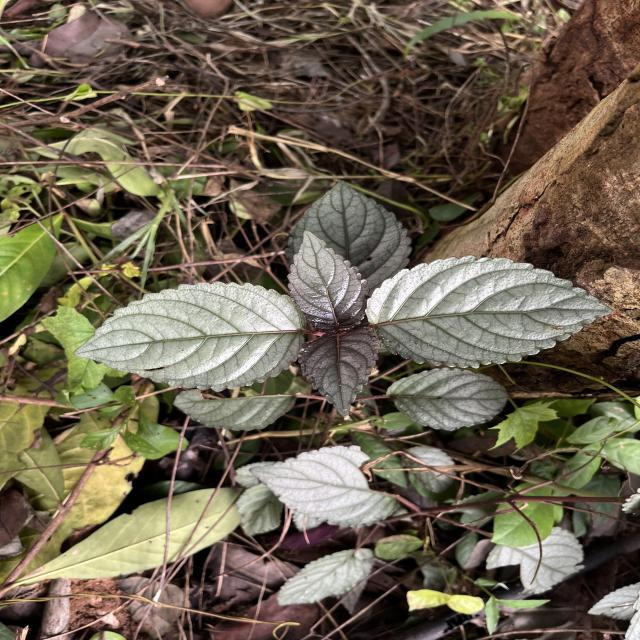Hemigraphis colorata: (363, 252, 620, 370), (66, 276, 312, 394), (284, 226, 371, 334), (379, 364, 512, 434), (295, 328, 382, 421)
